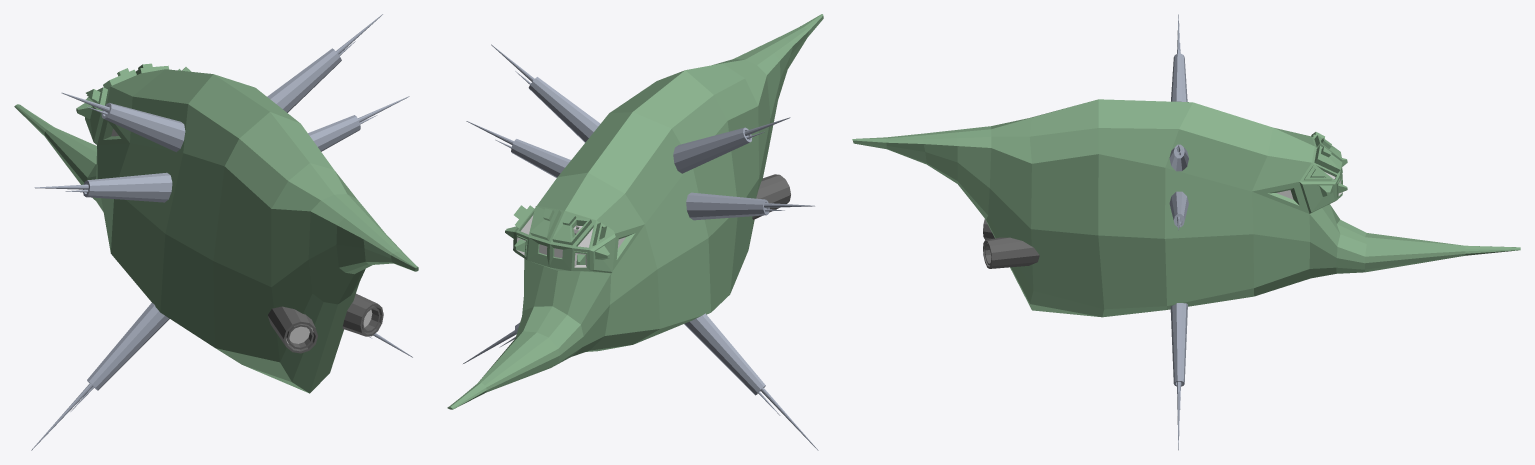
File: Juggernaut(Pat)-3.fbx
The picture shows the model from 3 angles, left to right: view 1: azimuth 30°, elevation 25°; view 2: azimuth 150°, elevation 25°; view 3: azimuth 270°, elevation 25°; orthographic projection. The views are drawn at different scales.
Visible parts, largest first — view 1: Body, Spires, Engines; view 2: Body, Spires, Engines; view 3: Body, Spires, Engines.
Part boxes in pixels (x1,y1,x2,y2): Body: [14, 63, 418, 393]; Spires: [31, 14, 412, 450]; Engines: [267, 293, 383, 353]; Body: [447, 14, 823, 409]; Spires: [463, 44, 818, 450]; Engines: [752, 174, 790, 219]; Body: [852, 99, 1520, 317]; Spires: [1169, 14, 1188, 450]; Engines: [983, 219, 1039, 268].
Bounding box in the file's own units: 3.32 × 2.91 × 6.02.
